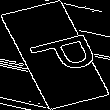P_E: (12, 29, 98, 81)
